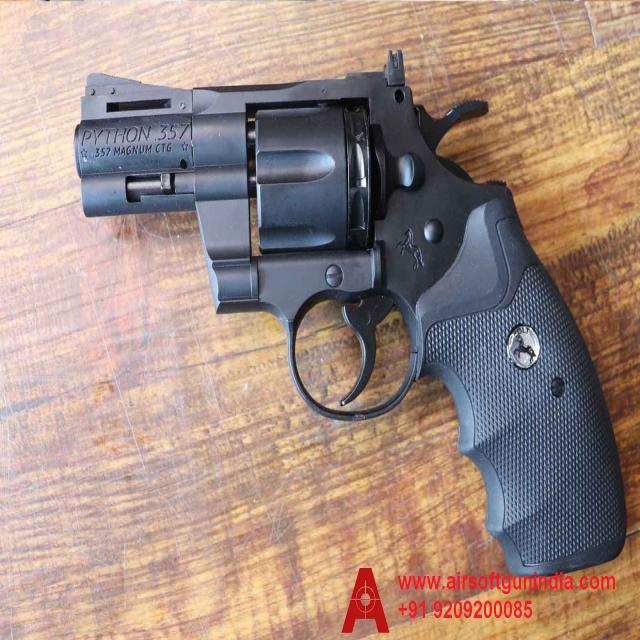handgun: (77, 68, 638, 582)
